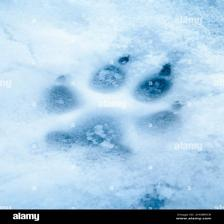wolf: (43, 52, 187, 173)
